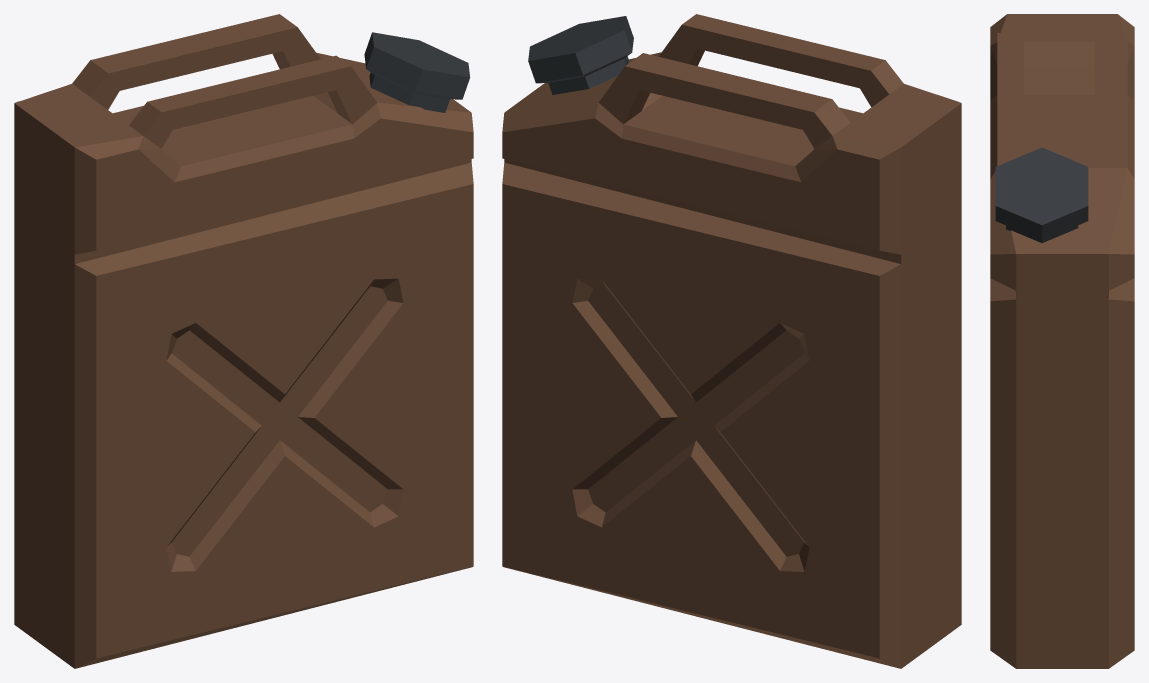
Rendered from SM_Prop_GasCan_01.fbx.
The picture shows the model from 3 angles, left to right: view 1: azimuth 30°, elevation 25°; view 2: azimuth 150°, elevation 25°; view 3: azimuth 270°, elevation 25°; orthographic projection. The views are drawn at different scales.
Parts seen in each view (by area): view 1: SM_Prop_GasCan_01; view 2: SM_Prop_GasCan_01; view 3: SM_Prop_GasCan_01.
Part boxes in pixels (box(x1,y1,x2,y2)): SM_Prop_GasCan_01: box(14, 14, 473, 668); SM_Prop_GasCan_01: box(502, 14, 961, 668); SM_Prop_GasCan_01: box(990, 14, 1134, 668).
Bounding box in the file's own units: 40.32 × 50.47 × 13.38.
